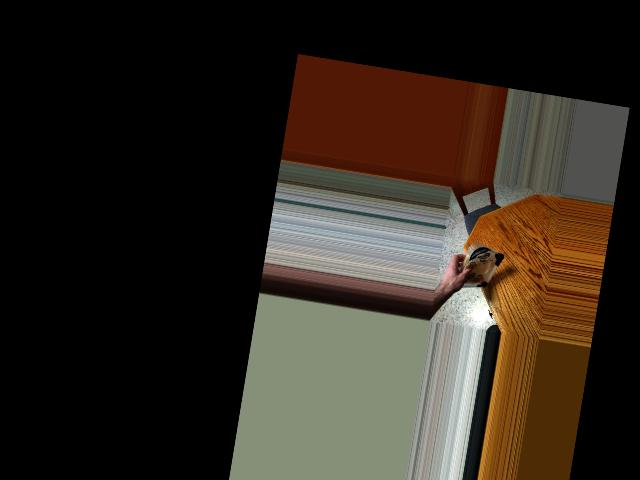cheese: (459, 243, 501, 297)
